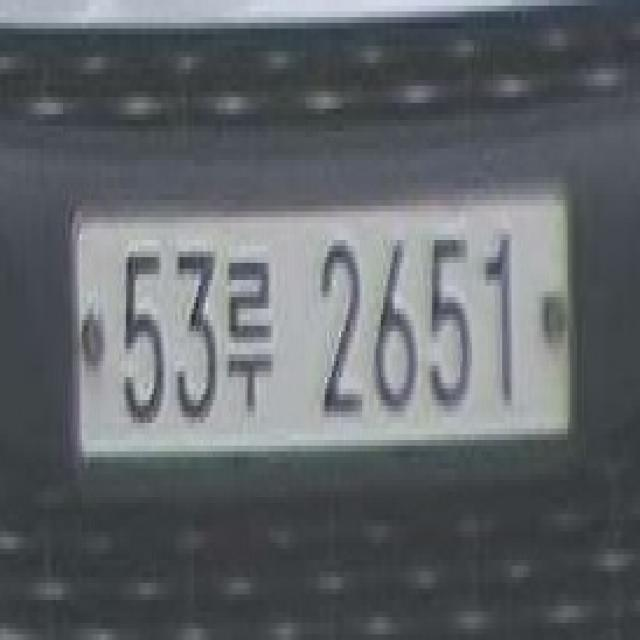1: (479, 223, 528, 434)
2: (313, 240, 369, 440)
3: (163, 240, 222, 440)
5: (418, 212, 477, 417), (119, 240, 173, 434)
6: (369, 217, 425, 446)
license_plate: (65, 177, 577, 537)
lu: (218, 240, 280, 411)
